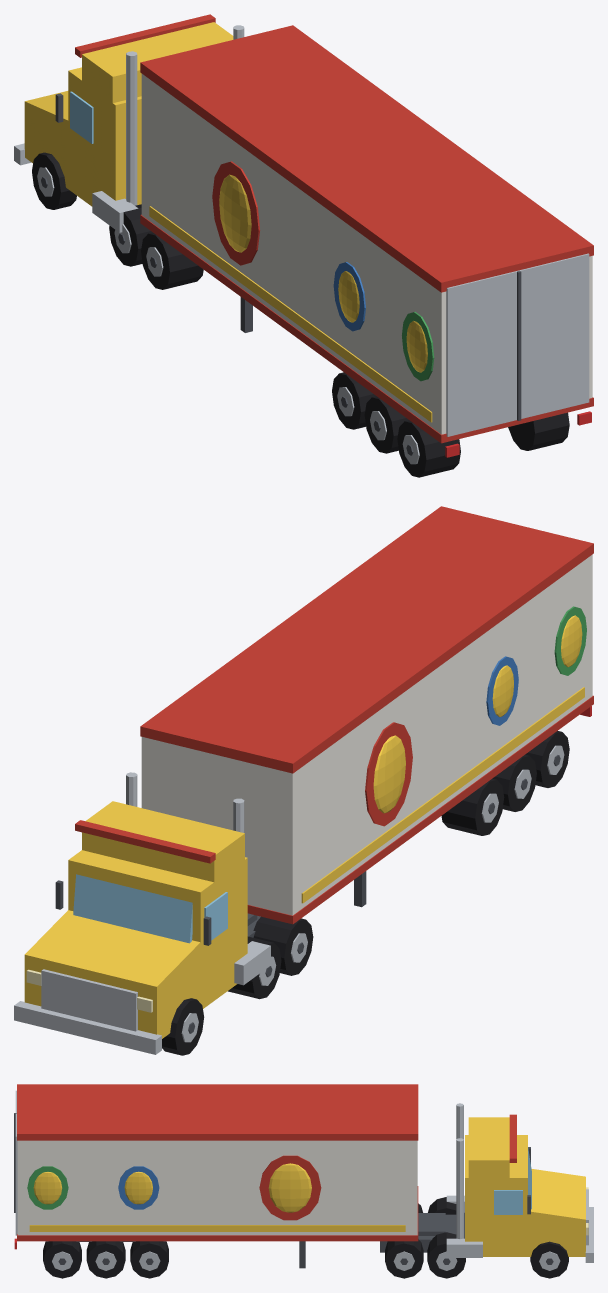
Rendered from EggHauler.fbx.
3 views of the same model, one above another, from view 1: azimuth 30°, elevation 25°; view 2: azimuth 150°, elevation 25°; view 3: azimuth 270°, elevation 25° (orthographic). The views are drawn at different scales.
Visible parts, largest first — view 1: EggHauler; view 2: EggHauler; view 3: EggHauler.
Part boxes in pixels (<box>): EggHauler: <box>14,14,593,477</box>; EggHauler: <box>14,506,593,1055</box>; EggHauler: <box>14,1084,593,1278</box>.
Size of the model in its own units: 289 by 372 by 1340.
